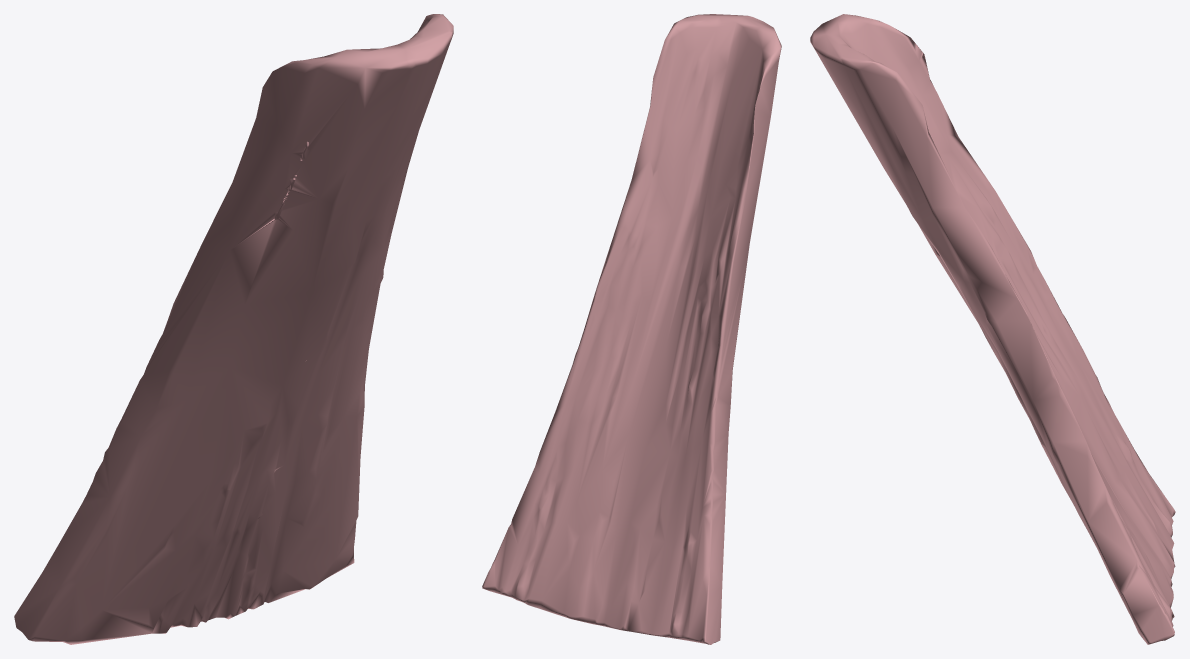
Rendered from fma55237_mm1179.glb.
3 renders of one model, left to right at view 1: azimuth 30°, elevation 25°; view 2: azimuth 150°, elevation 25°; view 3: azimuth 270°, elevation 25°, orthographic. The views are drawn at different scales.
Visible parts, largest first — view 1: FMA55237_MM1179; view 2: FMA55237_MM1179; view 3: FMA55237_MM1179.
Part boxes in pixels (x1,y1,x2,y2): FMA55237_MM1179: (14,14,453,644); FMA55237_MM1179: (482,14,781,644); FMA55237_MM1179: (810,14,1175,644).
Bounding box in the file's own units: 0.00672 × 0.0142 × 0.0083.
